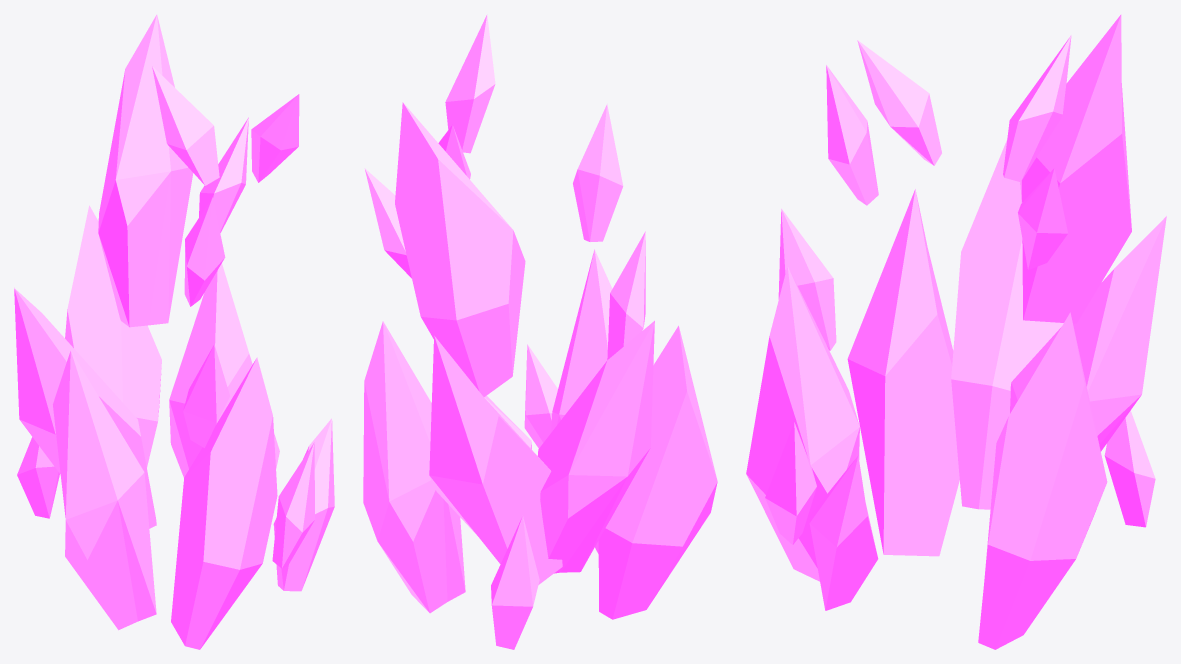
Rendered from crystalglow.glb.
3 views of the same model, side by side, from view 1: azimuth 30°, elevation 25°; view 2: azimuth 150°, elevation 25°; view 3: azimuth 270°, elevation 25° (orthographic). The views are drawn at different scales.
Parts seen in each view (by area): view 1: crystal; view 2: crystal; view 3: crystal.
Boxes of the visible parts, x1,y1,x2,y2 form: crystal: (14,14,334,649); crystal: (363,14,717,649); crystal: (746,14,1166,649).
Bounding box in the file's own units: 2.82 × 5.15 × 3.21.
